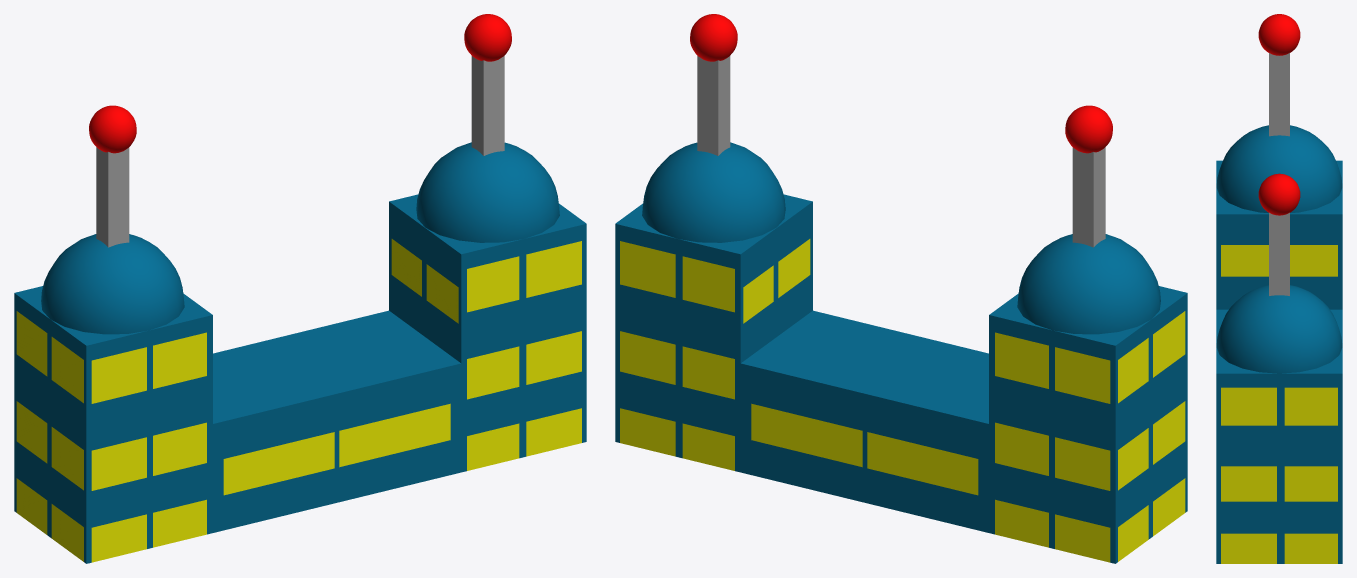
The model's file is PoliceStation.fbx.
3 views of the same model, side by side, from view 1: azimuth 30°, elevation 25°; view 2: azimuth 150°, elevation 25°; view 3: azimuth 270°, elevation 25° (orthographic). The views are drawn at different scales.
Parts seen in each view (by area): view 1: pCube3, pSphere1 (×2), pCube2 (×2), pSphere2 (×2); view 2: pCube3, pSphere1 (×2), pCube2 (×2), pSphere2 (×2); view 3: pCube3, pSphere1 (×2), pCube2 (×2), pSphere2 (×2).
Part boxes in pixels (left/top/right/bottom): pCube3: left=14, top=194, right=586, bottom=563; pSphere1 (×2): left=41, top=142, right=559, bottom=334; pCube2 (×2): left=96, top=56, right=504, bottom=247; pSphere2 (×2): left=89, top=14, right=511, bottom=153; pCube3: left=615, top=194, right=1187, bottom=563; pSphere1 (×2): left=642, top=142, right=1160, bottom=334; pCube2 (×2): left=697, top=56, right=1105, bottom=247; pSphere2 (×2): left=690, top=14, right=1112, bottom=153; pCube3: left=1216, top=160, right=1342, bottom=563; pSphere1 (×2): left=1216, top=125, right=1342, bottom=373; pCube2 (×2): left=1269, top=53, right=1289, bottom=295; pSphere2 (×2): left=1258, top=14, right=1300, bottom=215.
Bounding box in the file's own units: 24 × 19 × 6.
